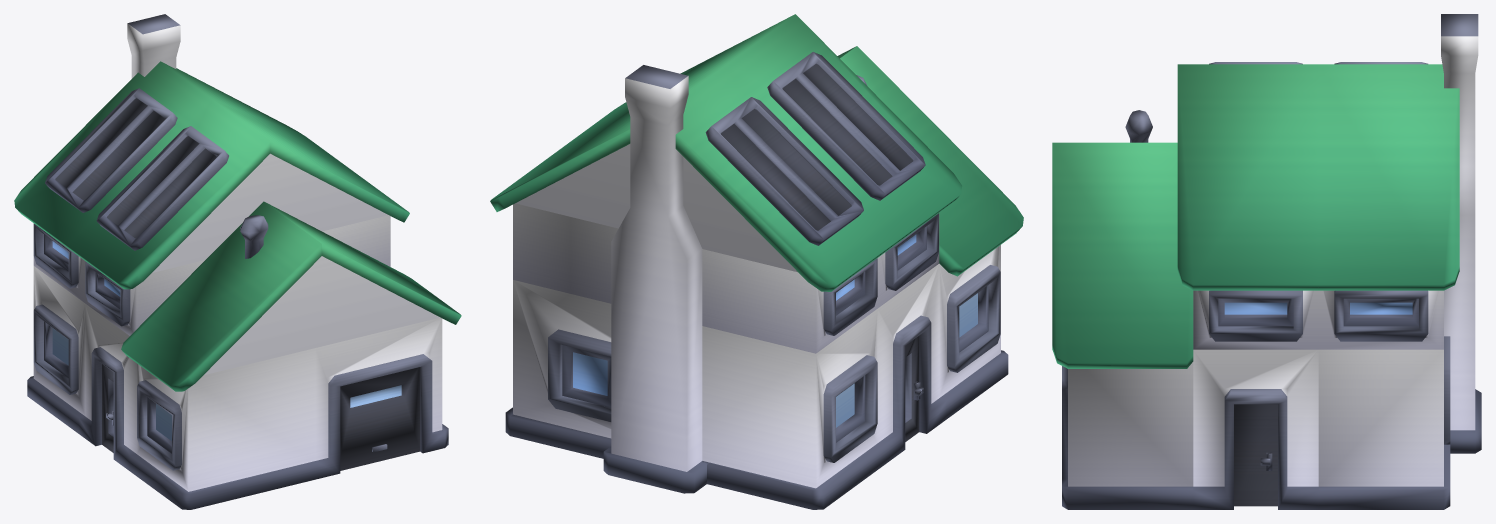
Rendered from n1_building-type-j_lev1.glb.
3 views of the same model, side by side, from view 1: azimuth 30°, elevation 25°; view 2: azimuth 150°, elevation 25°; view 3: azimuth 270°, elevation 25° (orthographic). The views are drawn at different scales.
Visible parts, largest first — view 1: n1_building-type-j_lev1; view 2: n1_building-type-j_lev1; view 3: n1_building-type-j_lev1.
Part boxes in pixels (x1,y1,x2,y2): n1_building-type-j_lev1: (14,14,461,509); n1_building-type-j_lev1: (490,14,1023,509); n1_building-type-j_lev1: (1052,14,1481,509).
Size of the model in its own units: 7.1 by 7.81 by 7.48.
1 material, 1 textured.
